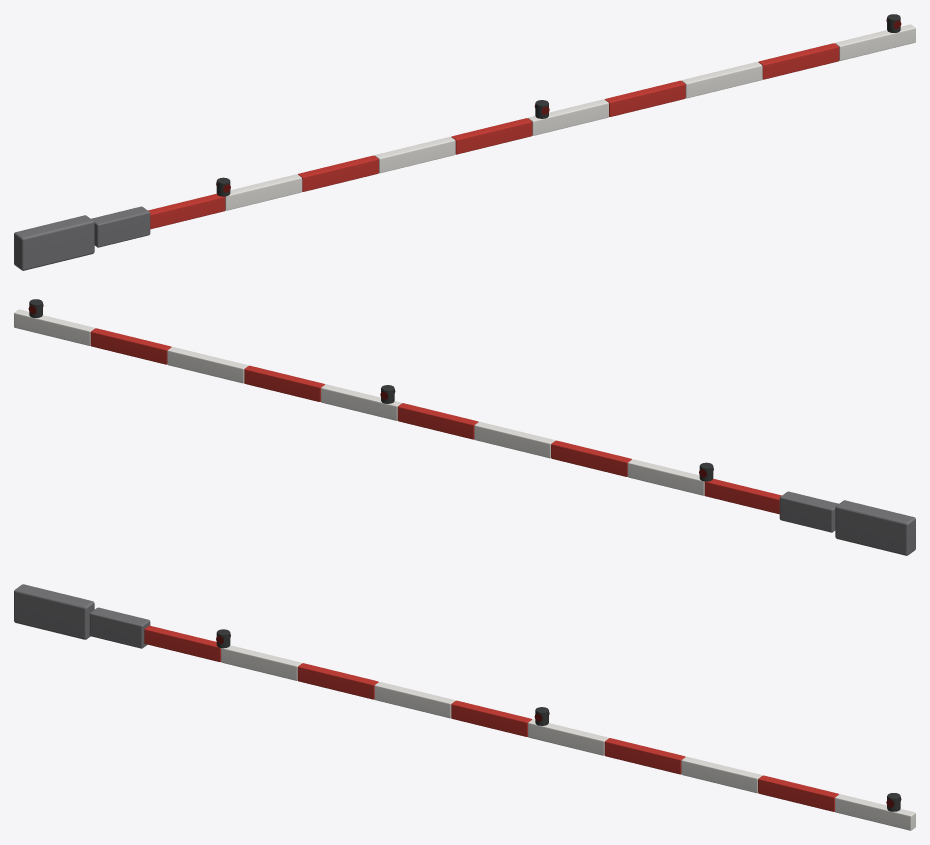
File: rail.crossing.boom_6.glb
3 views of the same model, one above another, from view 1: azimuth 30°, elevation 25°; view 2: azimuth 150°, elevation 25°; view 3: azimuth 330°, elevation 25° (orthographic).
Visible parts, largest first — view 1: main__paint_c33, main__paint_eee, main__galv_777, main__paint_333; view 2: main__paint_c33, main__paint_eee, main__galv_777, main__paint_333; view 3: main__paint_c33, main__paint_eee, main__galv_777, main__paint_333.
Part boxes in pixels (x1,y1,x2,y2): main__paint_c33: (148,43,839,229); main__paint_eee: (225,24,915,210); main__galv_777: (14,206,150,270); main__paint_333: (216,14,900,196); main__paint_c33: (90,328,781,514); main__paint_eee: (14,309,704,495); main__galv_777: (779,491,915,555); main__paint_333: (29,299,713,481); main__paint_c33: (144,625,838,811); main__paint_eee: (221,645,915,830); main__galv_777: (14,584,150,648); main__paint_333: (216,629,900,811).
Bounding box in the file's own units: 6.75 × 0.275 × 0.12.
